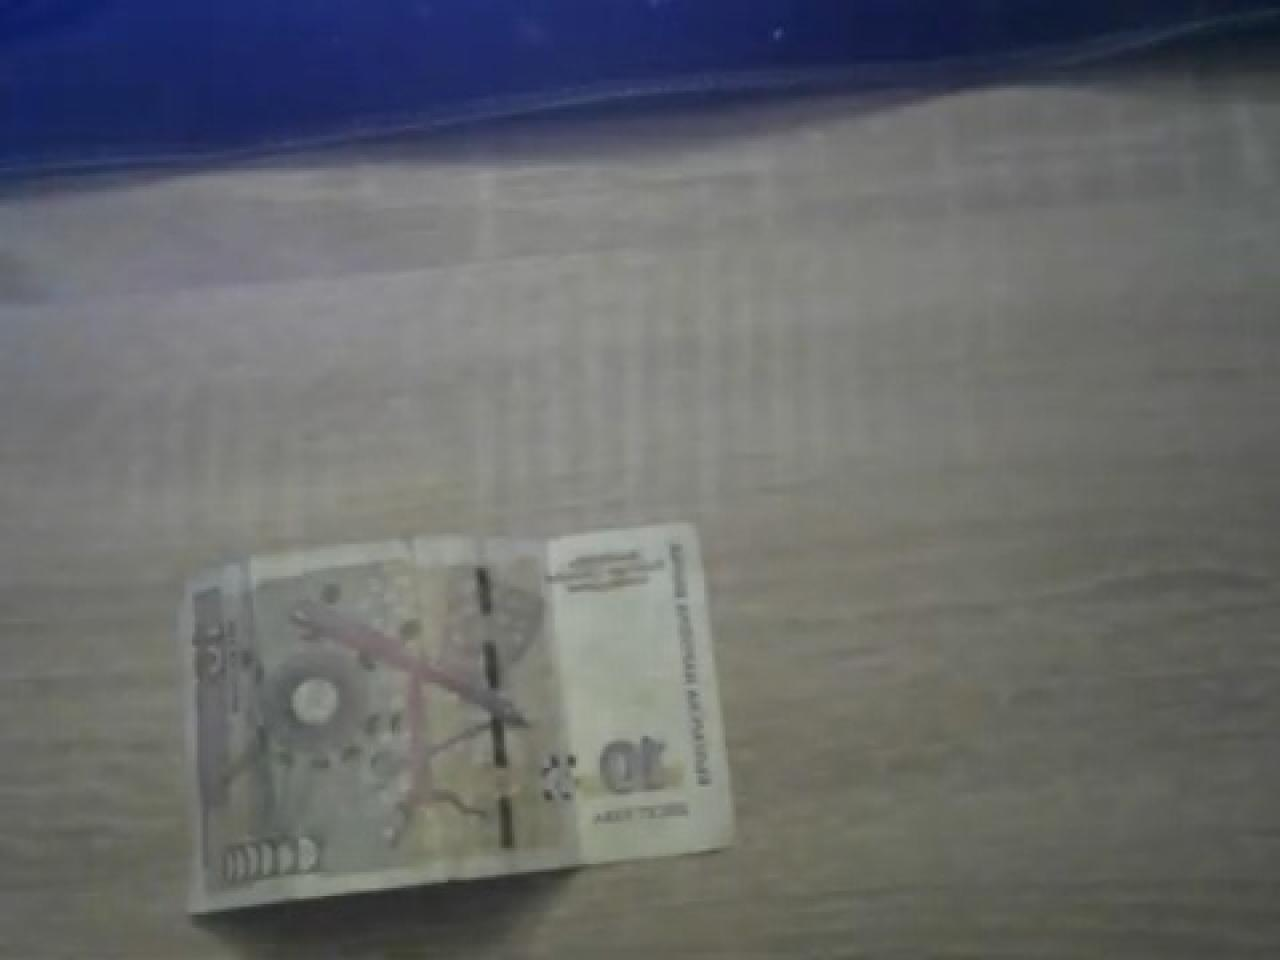10leva: (181, 522, 739, 923)
